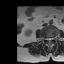CCS_normal: (48, 36, 50, 44)
LFS_normal: (52, 36, 54, 41)
LLS_normal: (50, 36, 52, 41)
RFS_normal: (44, 36, 47, 41)
RLS_normal: (47, 36, 48, 42)
